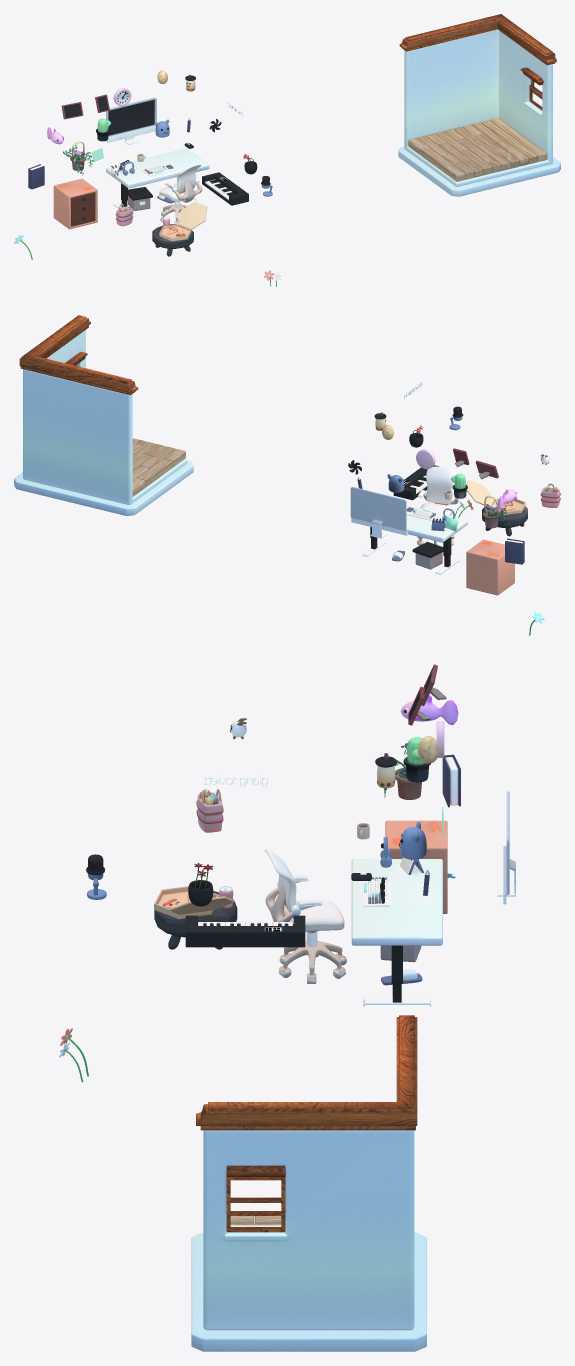
The model's file is demo_1.glb.
3 views of the same model, one above another, from view 1: azimuth 30°, elevation 25°; view 2: azimuth 150°, elevation 25°; view 3: azimuth 270°, elevation 25° (orthographic). The views are drawn at different scales.
Visible parts, largest first — view 1: Room_Baked, Table_Baked, Wardrobe_Baked, Screen_Baked, Chair_Baked, PizzaBox_Baked, Piano_Baked, Stool_Baked, Box_Baked, FlowerPot2_Baked, Book1_Baked; view 2: Room_Baked, Screen_Baked, Wardrobe_Baked, Table_Baked, Chair_Baked, PizzaBox_Baked, Box_Baked, Piano_Baked, Stool_Baked, Book1_Baked, FlowerPot2_Baked, FlowerBasket_Baked; view 3: Room_Baked, Table_Baked, Chair_Baked, Piano_Baked, Wardrobe_Baked, PizzaBox_Baked, Stool_Baked, FlowerBasket_Baked, Book1_Baked, Screen_Baked.
Boxes of the visible parts, x1,y1,x2,y2 form: Room_Baked: [398, 14, 560, 196]; Table_Baked: [106, 148, 209, 217]; Wardrobe_Baked: [53, 178, 97, 229]; Screen_Baked: [106, 97, 156, 144]; Chair_Baked: [159, 164, 202, 224]; PizzaBox_Baked: [159, 201, 207, 241]; Piano_Baked: [202, 172, 248, 205]; Stool_Baked: [152, 224, 193, 256]; Box_Baked: [128, 187, 152, 210]; FlowerPot2_Baked: [63, 141, 94, 175]; Book1_Baked: [28, 164, 44, 189]; Room_Baked: [14, 315, 193, 515]; Screen_Baked: [350, 487, 407, 538]; Wardrobe_Baked: [466, 539, 514, 595]; Table_Baked: [362, 505, 467, 574]; Chair_Baked: [417, 466, 458, 545]; PizzaBox_Baked: [466, 480, 525, 515]; Box_Baked: [412, 541, 443, 569]; Piano_Baked: [393, 465, 439, 500]; Stool_Baked: [482, 506, 527, 536]; Book1_Baked: [505, 538, 524, 564]; FlowerPot2_Baked: [482, 495, 506, 528]; FlowerBasket_Baked: [540, 483, 560, 507]; Room_Baked: [191, 1015, 426, 1351]; Table_Baked: [351, 859, 442, 1006]; Chair_Baked: [264, 849, 346, 983]; Piano_Baked: [185, 915, 305, 947]; Wardrobe_Baked: [381, 820, 447, 913]; PizzaBox_Baked: [154, 886, 234, 919]; Stool_Baked: [154, 891, 237, 949]; FlowerBasket_Baked: [196, 789, 223, 832]; Book1_Baked: [442, 754, 460, 807]; Screen_Baked: [497, 791, 515, 904].
Bounding box in the file's own units: 18.78 × 5.89 × 7.64.
1 material, 1 textured.
